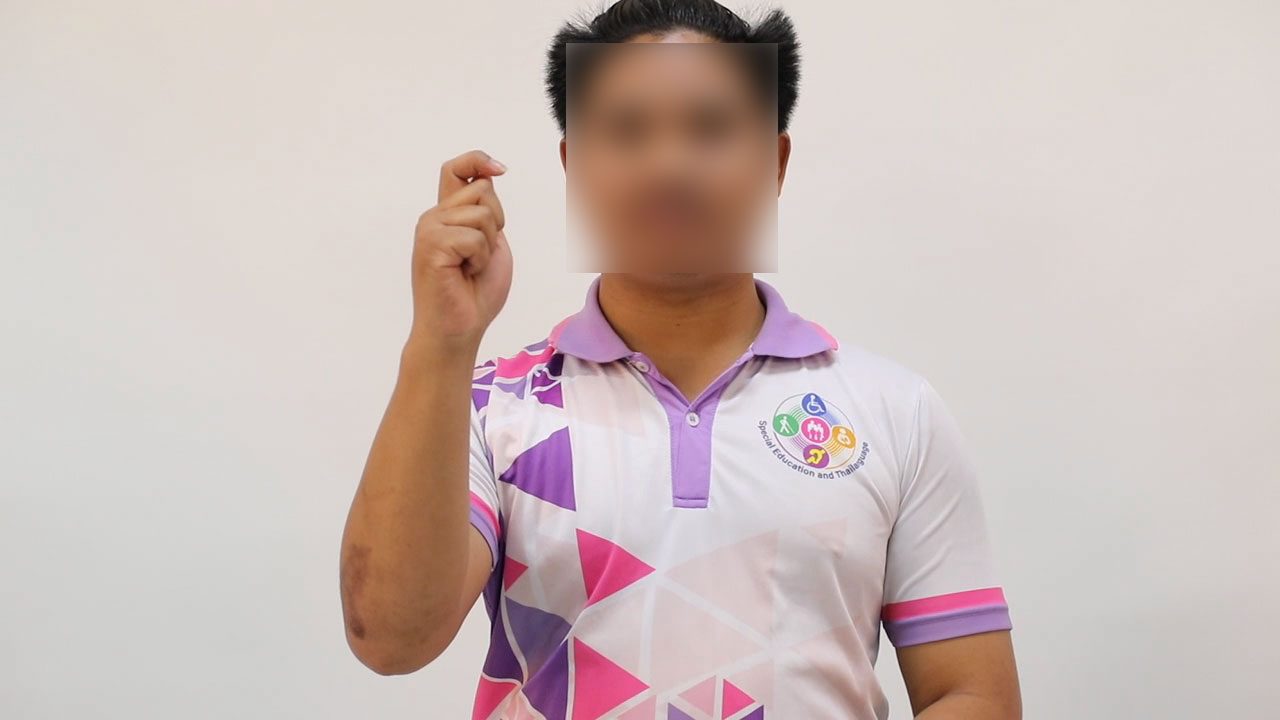or: (402, 149, 524, 348)
